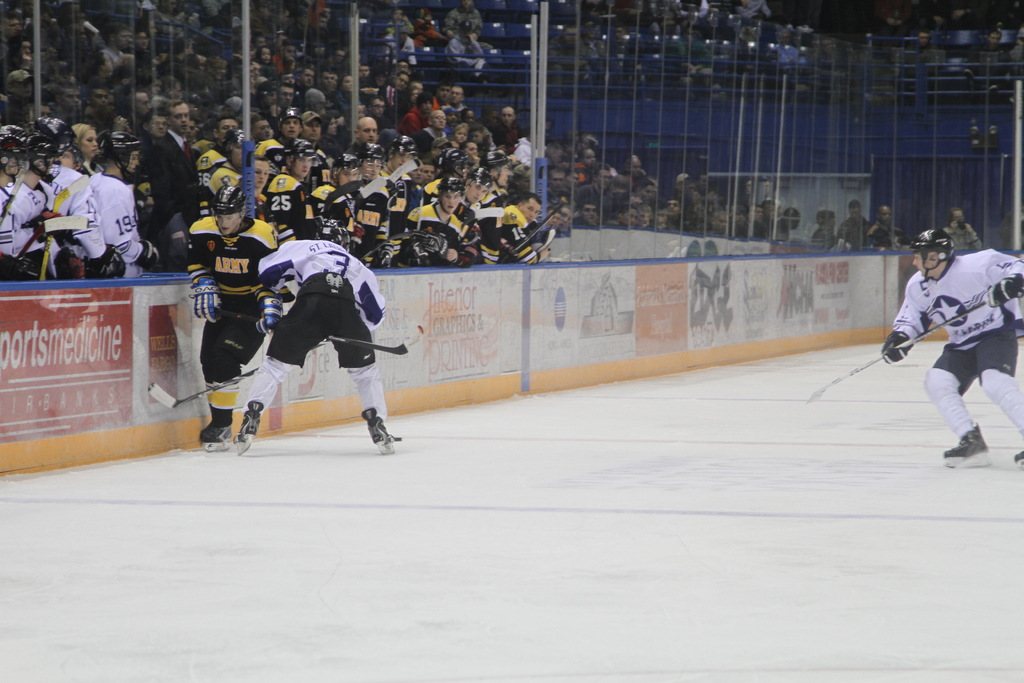Person: (0, 0, 1024, 285)
